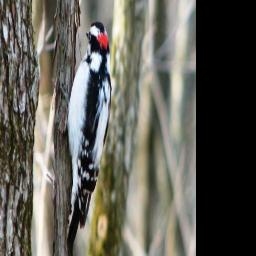Woodpecker: (60, 22, 114, 256)
